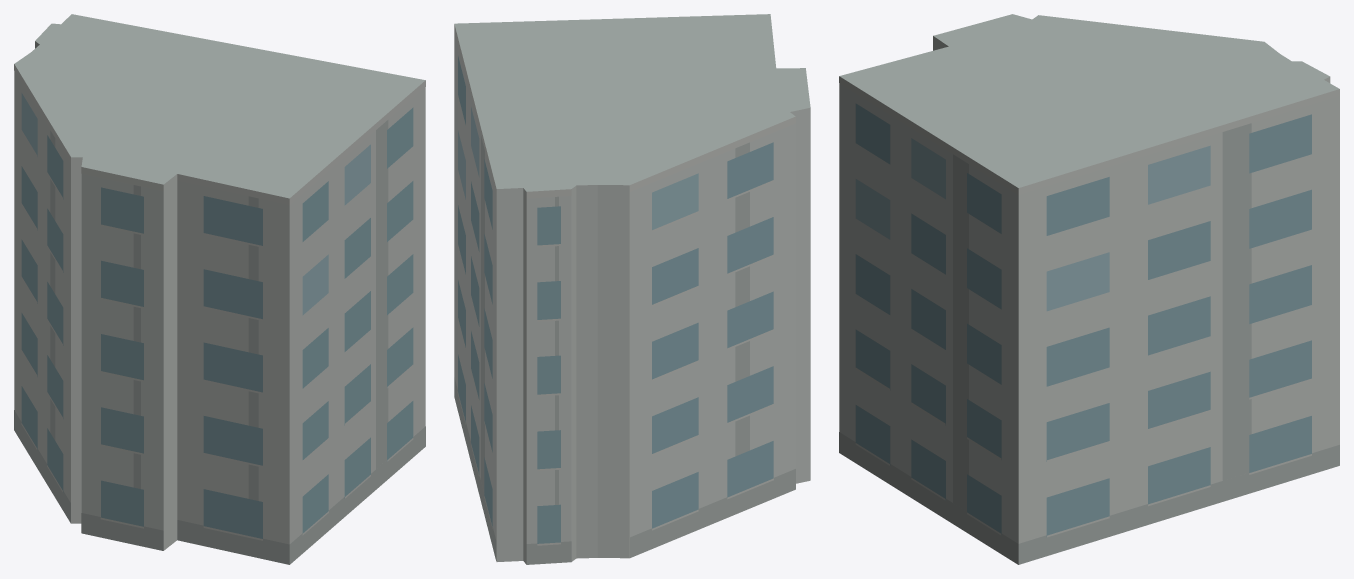
File: survey-upis-32724551.glb
3 views of the same model, side by side, from view 1: azimuth 30°, elevation 25°; view 2: azimuth 150°, elevation 25°; view 3: azimuth 270°, elevation 25° (orthographic). The views are drawn at different scales.
Parts seen in each view (by area): view 1: survey-upis-32724551.tmp; view 2: survey-upis-32724551.tmp; view 3: survey-upis-32724551.tmp.
Boxes of the visible parts, left/top/right/bottom form: survey-upis-32724551.tmp: left=14, top=14, right=425, bottom=564; survey-upis-32724551.tmp: left=454, top=14, right=810, bottom=564; survey-upis-32724551.tmp: left=839, top=14, right=1339, bottom=564.
Size of the model in its own units: 13.14 by 13.25 by 15.97.
